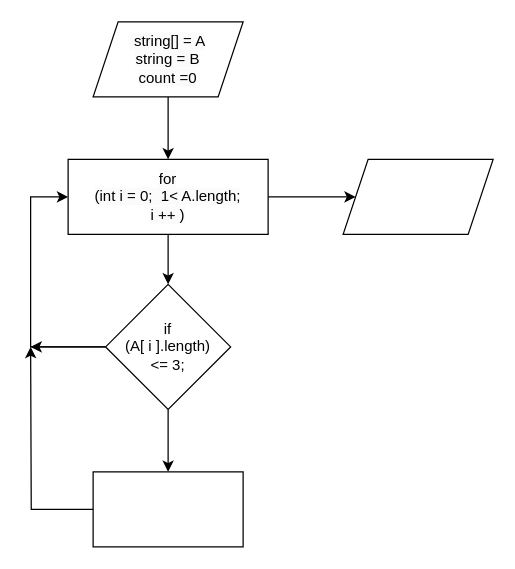
The diagram is 515 pixels wide and 569 high, and some of its shapes have lost their labels. The shapes that lost their labels are listed below. From the top down, each one's centre as x and y in pixels, then its label:
(417,196): console.write(B)
(167,509): B[count] = A[i] count++;
